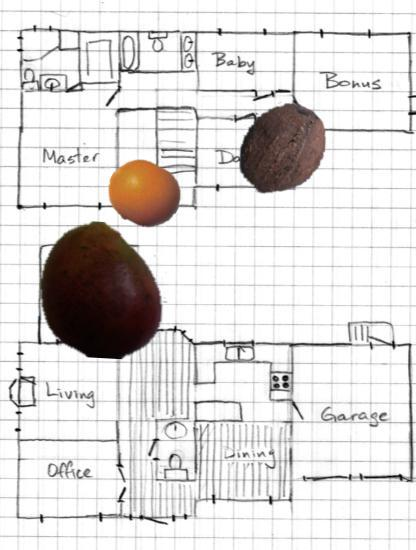Cocos: (233, 100, 333, 200)
Grapefruit: (107, 157, 182, 232)
Mango: (34, 222, 171, 359)
